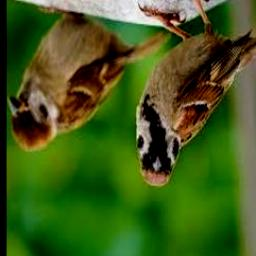Sparrow: (8, 7, 170, 151), (137, 0, 256, 187)
